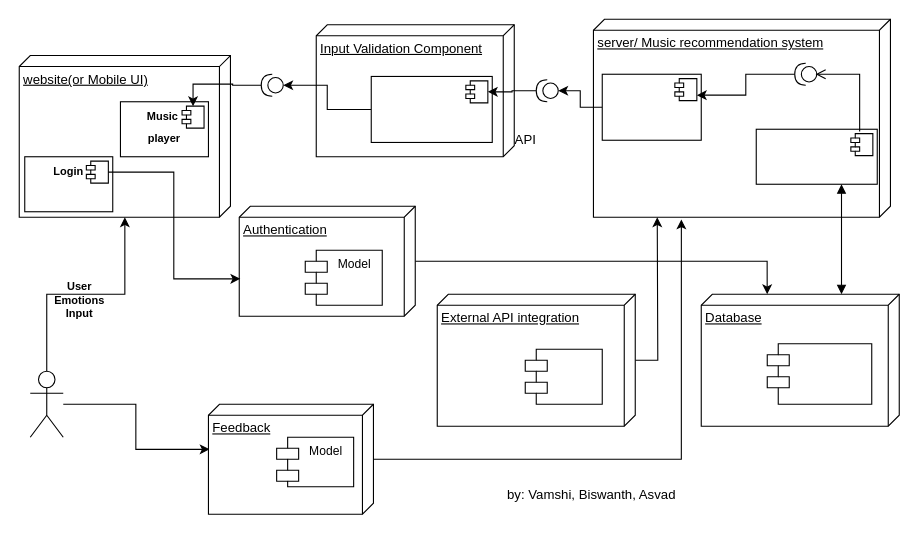
This 919x534 diagram has some shape labels left out. The shapes that lost their labels are listed below. From the top down, each one's centre as x and y in pixels, then its label:
the point at 431,108: Emotion detection model
the point at 651,106: Recommendation Engine
the point at 816,156: recommendation Data access
the point at 563,376: Spotify songs
the point at 819,373: User profile Preferences
the point at 46,403: User
